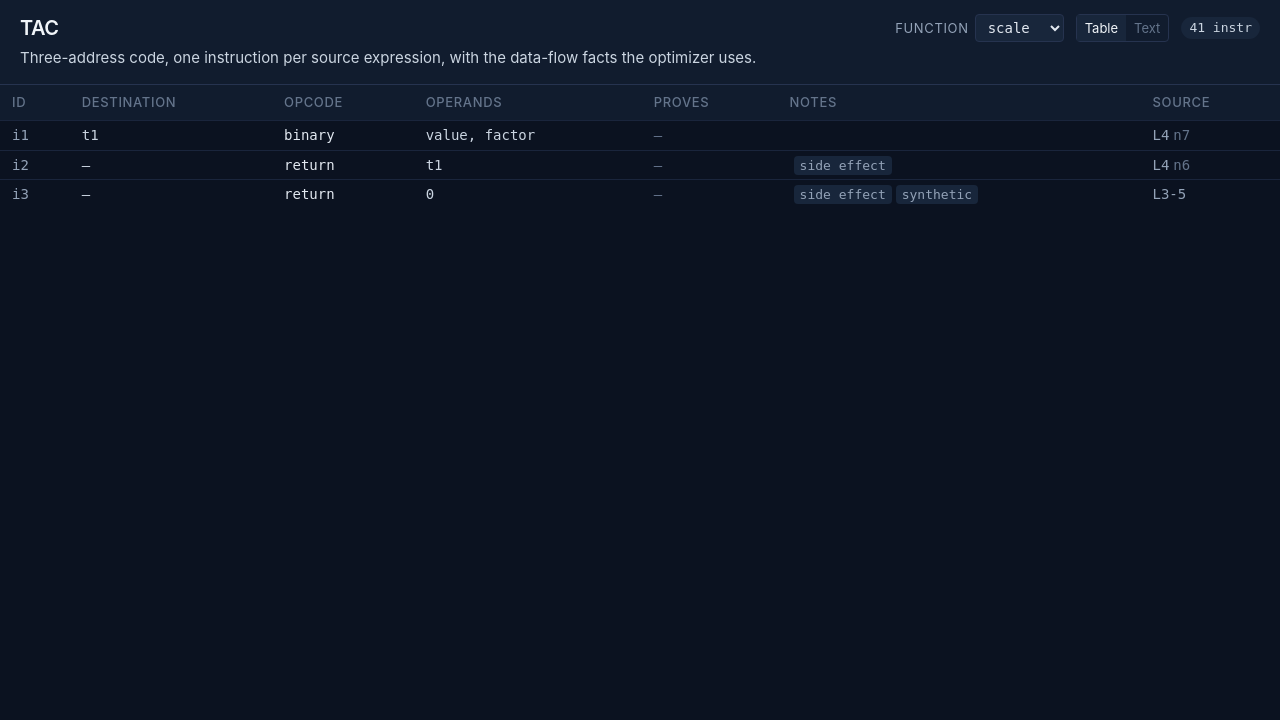
Test: stage views › renders TAC as a table by default and as text on request
expect the table is shown: met, box left=0, top=85, right=1279, bottom=209
Step 1. Click the button "text" → (1147, 28), box left=1126, top=15, right=1168, bottom=41
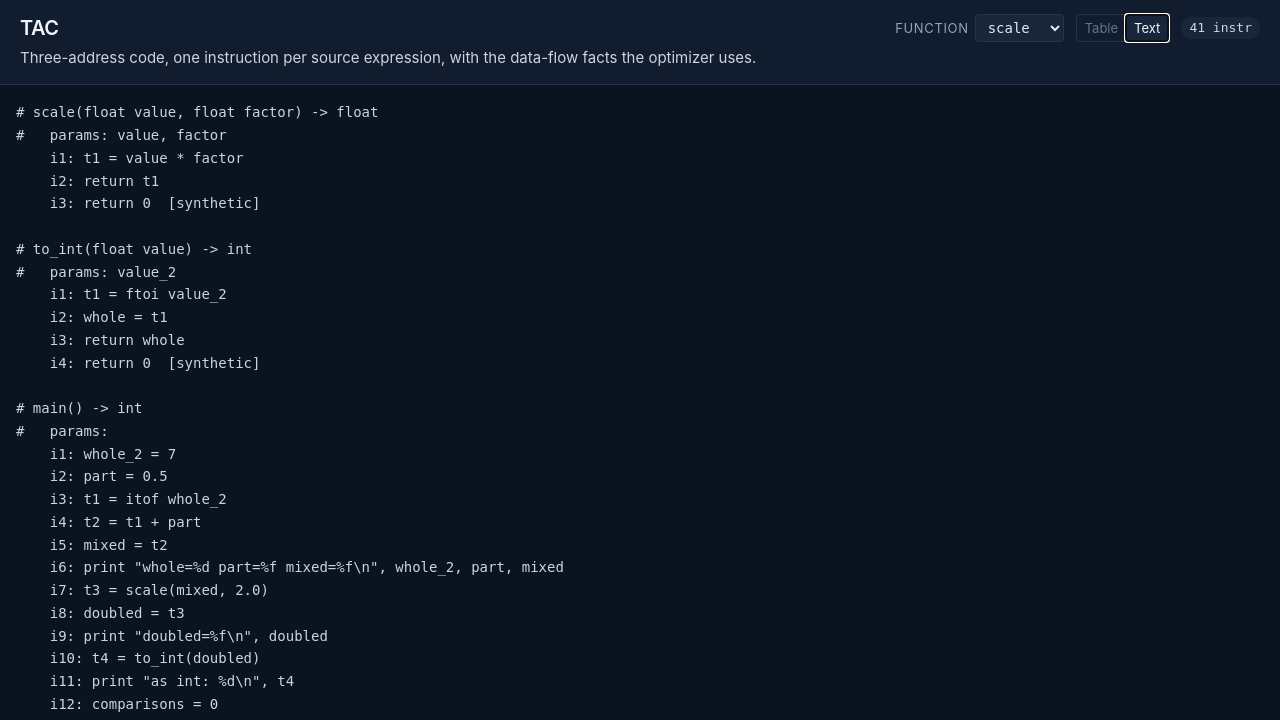
expect the table is gone: met
